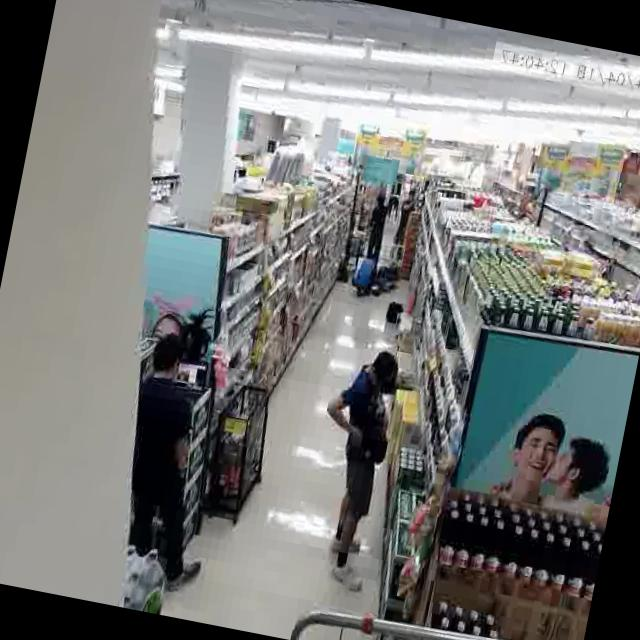shoplifting: (282, 326, 423, 607)
